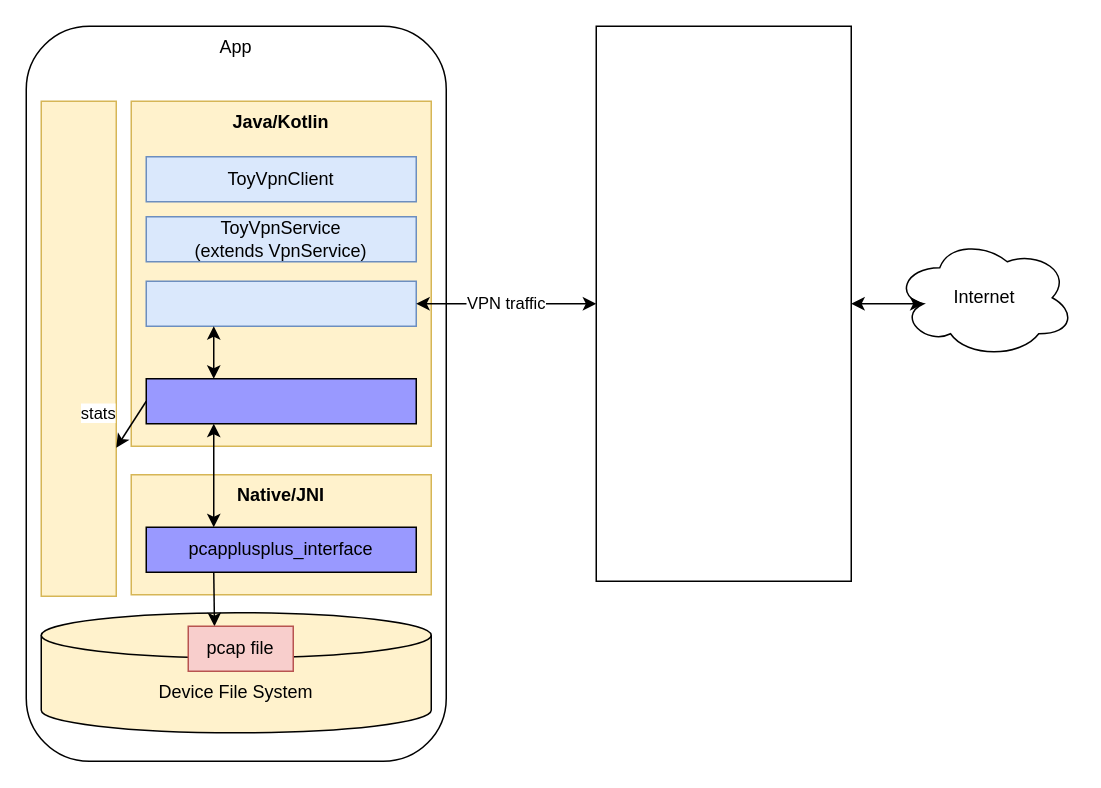
Image size: 1101x788. Some labels were removed from this diagram. The centre of each missing label's shape, as x and y in pixels:
"Android Log" belongs at pixel 78 348.
"PcapPlusPlusInterface" belongs at pixel 280 400.
"Server (Linux)" belongs at pixel 723 303.
"ToyVpnConnection" belongs at pixel 280 303.
